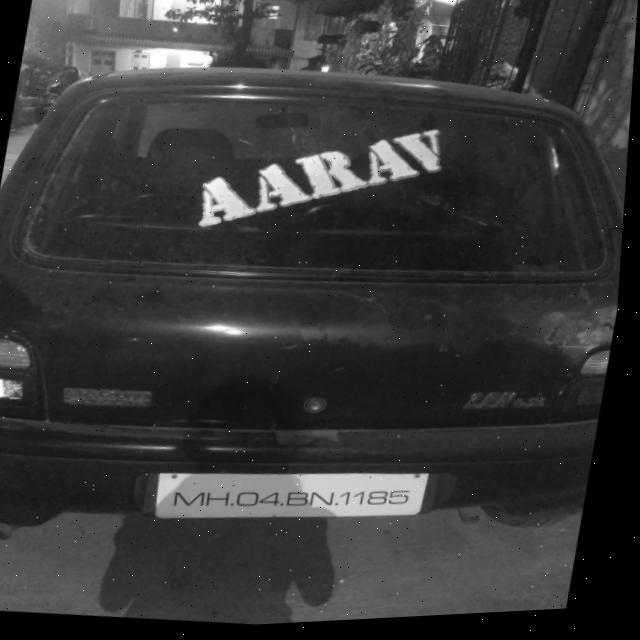car: (0, 26, 637, 581), (158, 448, 438, 554)
